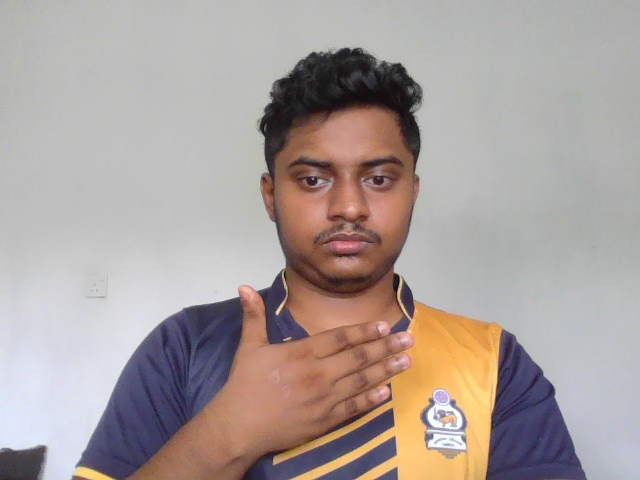Please: (209, 284, 413, 465)
